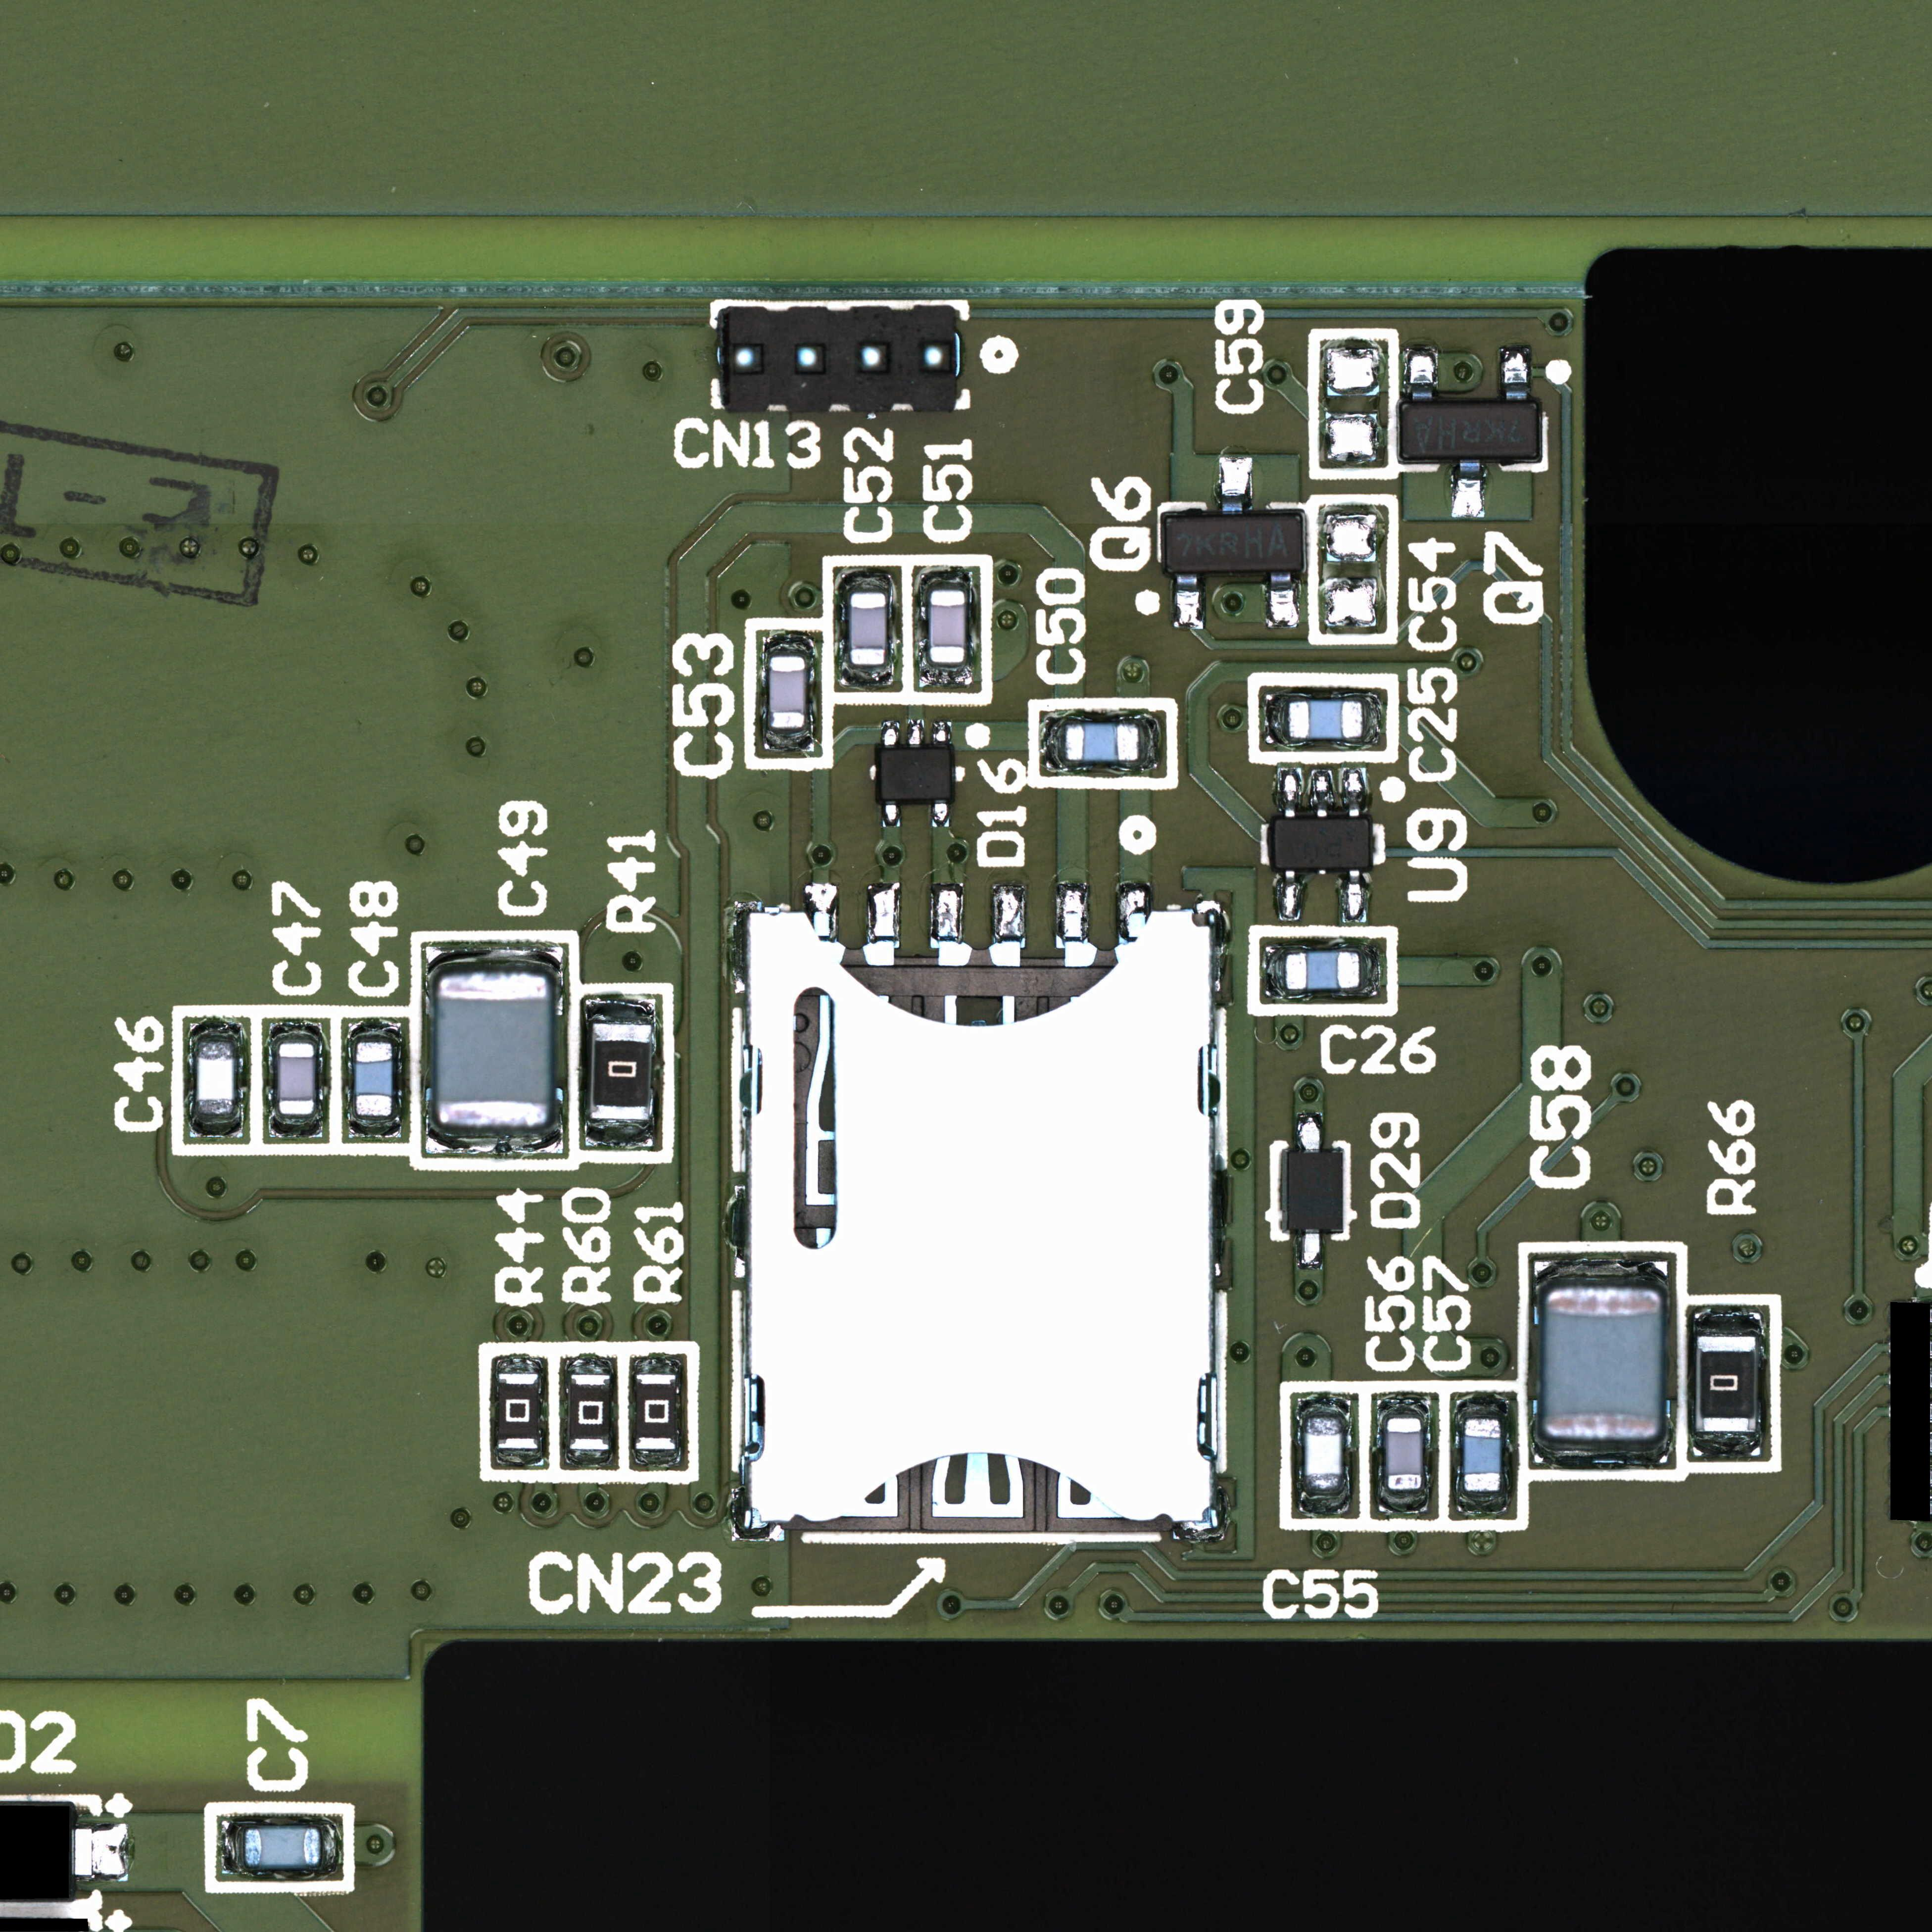Package: (1541, 1288, 1665, 1438), (435, 973, 554, 1125), (1399, 402, 1541, 458), (1166, 515, 1302, 571), (591, 1023, 653, 1120), (1698, 1336, 1755, 1433), (1269, 819, 1371, 870), (1284, 1150, 1343, 1230), (879, 748, 952, 801), (1284, 948, 1361, 993), (1302, 1415, 1345, 1491), (497, 1371, 538, 1449), (1065, 720, 1139, 763), (244, 1826, 318, 1868), (1288, 697, 1362, 740), (635, 1373, 676, 1449), (193, 1039, 235, 1111), (354, 1040, 393, 1116), (1463, 1417, 1502, 1491), (570, 1375, 609, 1449), (278, 1042, 317, 1116), (929, 589, 966, 665), (849, 593, 886, 665), (1385, 1417, 1422, 1490), (770, 656, 807, 729)
Solder: (1532, 1438, 1674, 1468), (1534, 1258, 1668, 1288), (425, 1125, 564, 1154), (426, 945, 563, 971), (74, 1822, 127, 1881), (1403, 345, 1440, 400), (1451, 460, 1484, 518), (1693, 1309, 1764, 1336), (1219, 458, 1253, 513), (1499, 345, 1530, 402), (586, 1120, 653, 1146), (1691, 1431, 1760, 1456), (1269, 571, 1299, 626), (587, 1000, 656, 1021), (1175, 573, 1200, 628), (320, 1817, 341, 1877), (188, 1113, 242, 1136), (1297, 1392, 1350, 1415), (922, 663, 973, 686), (271, 1115, 322, 1138), (1376, 1396, 1430, 1417), (1454, 1396, 1507, 1417), (223, 1821, 244, 1874), (1380, 1491, 1428, 1514), (840, 571, 892, 593), (1044, 717, 1065, 768), (1299, 1491, 1350, 1513), (1456, 1493, 1511, 1513), (764, 729, 814, 750), (349, 1021, 402, 1040), (1265, 947, 1284, 998), (763, 637, 814, 656), (1267, 694, 1286, 745), (924, 570, 970, 591), (1345, 870, 1364, 920), (350, 1116, 400, 1136), (840, 665, 893, 683), (1361, 943, 1378, 996), (1139, 715, 1157, 768), (1297, 1113, 1322, 1150), (494, 1449, 543, 1467), (1281, 770, 1299, 819), (1364, 694, 1380, 748), (1299, 1231, 1322, 1269), (564, 1357, 612, 1375), (564, 1449, 612, 1467), (1281, 870, 1299, 918), (1345, 770, 1362, 817), (271, 1024, 320, 1040), (191, 1023, 241, 1039), (633, 1357, 681, 1373), (1313, 770, 1329, 817), (633, 1451, 679, 1467), (495, 1357, 541, 1371), (881, 720, 899, 747), (932, 800, 948, 828), (932, 720, 950, 745), (908, 720, 924, 745), (883, 801, 899, 826)
